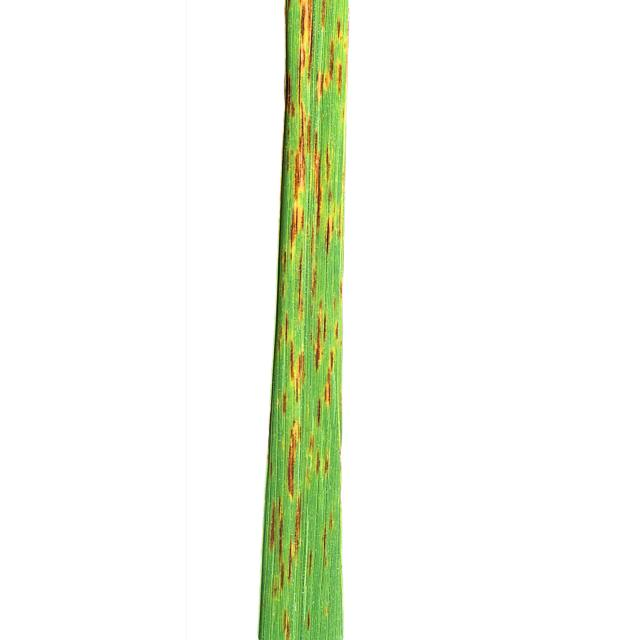Narrow brown: (209, 0, 436, 640)
